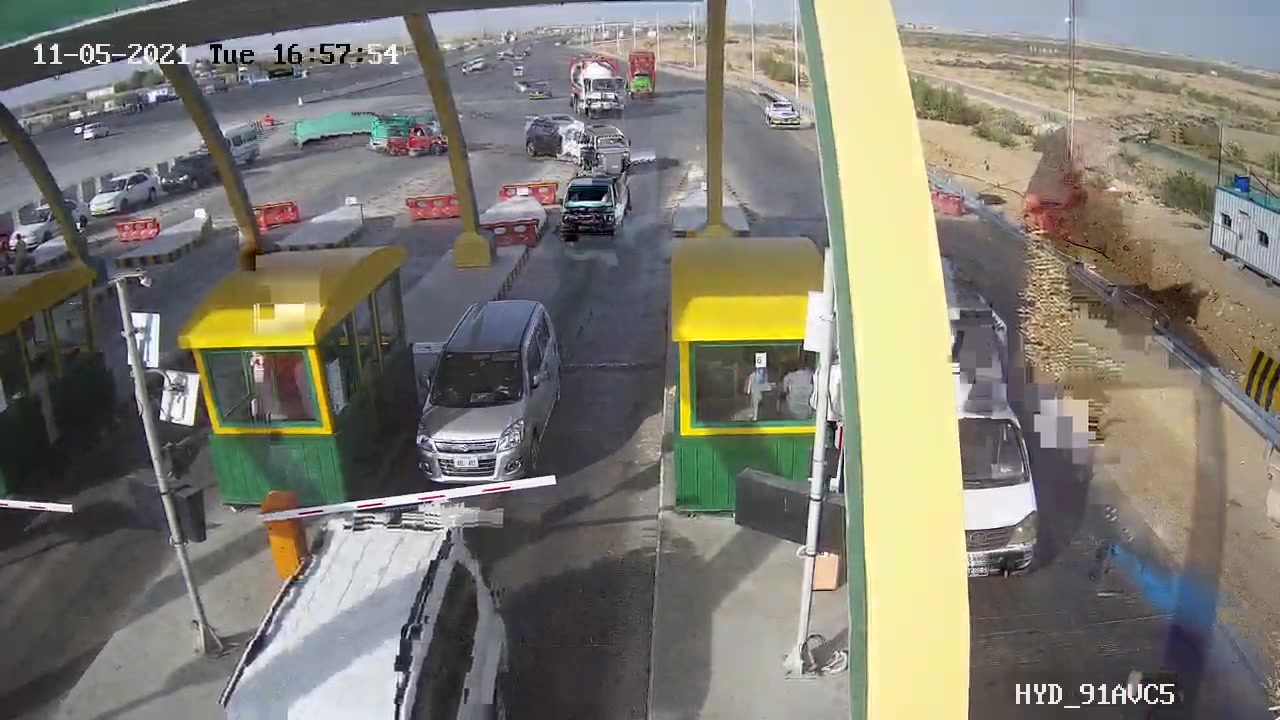F1: (392, 284, 597, 515)
